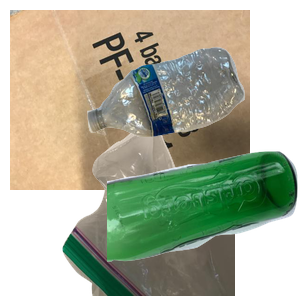cardboard: (10, 10, 250, 190)
glass: (107, 149, 300, 300)
plastic: (85, 45, 300, 175)
trash: (60, 120, 300, 300)
